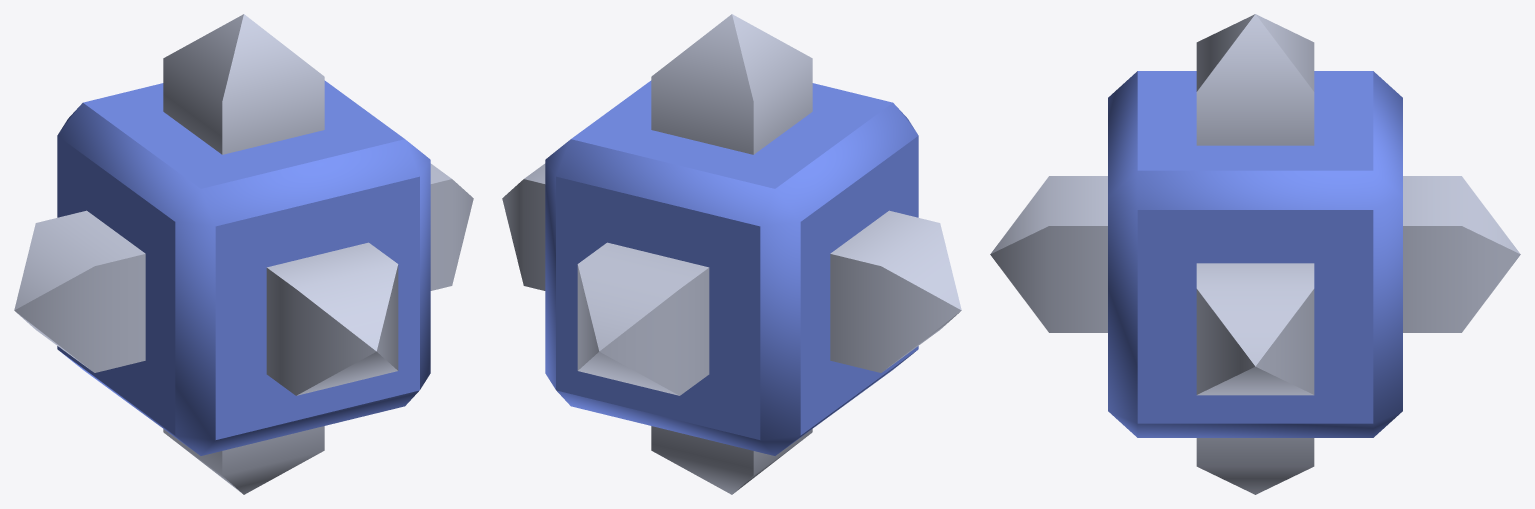
The model's file is spike-block.fbx.
3 views of the same model, side by side, from view 1: azimuth 30°, elevation 25°; view 2: azimuth 150°, elevation 25°; view 3: azimuth 270°, elevation 25° (orthographic).
Parts seen in each view (by area): view 1: spikeBlock; view 2: spikeBlock; view 3: spikeBlock.
Part boxes in pixels (x1=…): spikeBlock: x1=14, y1=14, x2=473, y2=494; spikeBlock: x1=502, y1=14, x2=961, y2=494; spikeBlock: x1=990, y1=14, x2=1520, y2=494.
Bounding box in the file's own units: 90 × 90 × 90.
